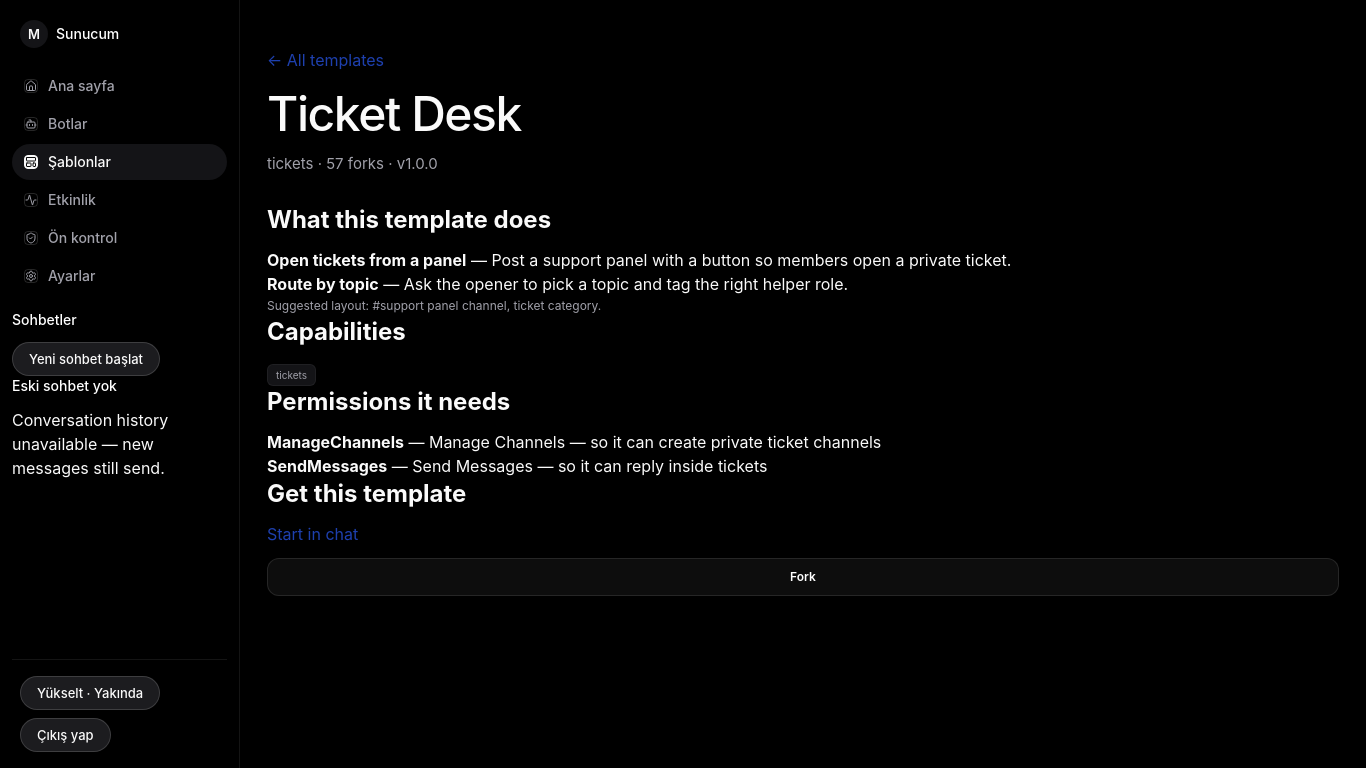
Test: template detail page › forks through POST /api/templates/<slug>/fork and shows the handoff trio
The width and height of the screenshot is (1366, 768).
Expected: the heading "Ticket Desk" is shown, [267,84,521,143]
Click the button "Fork": [803, 576] box [267,558,1339,596]
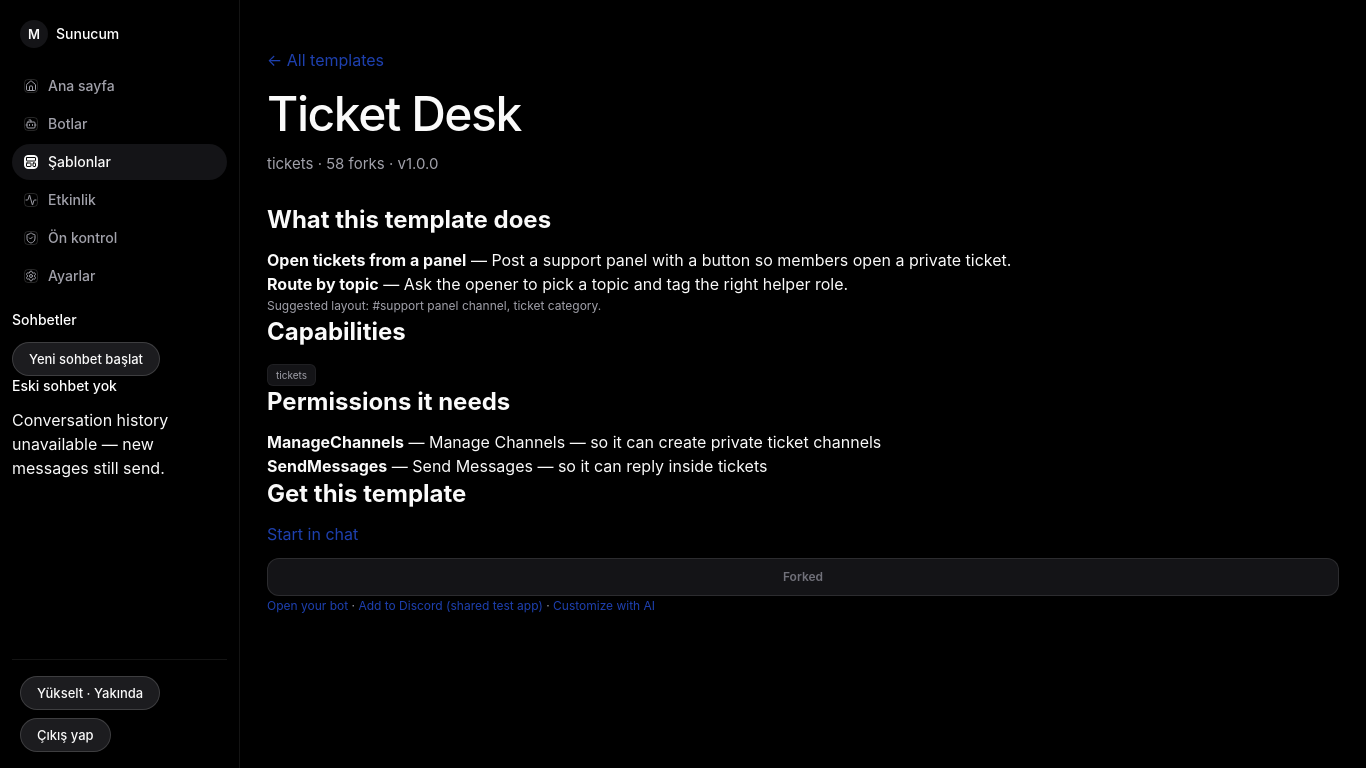
Now the button "Forked" is shown, box [267,558,1339,596]
Now the text "58 forks" is shown, box [267,154,438,173]
